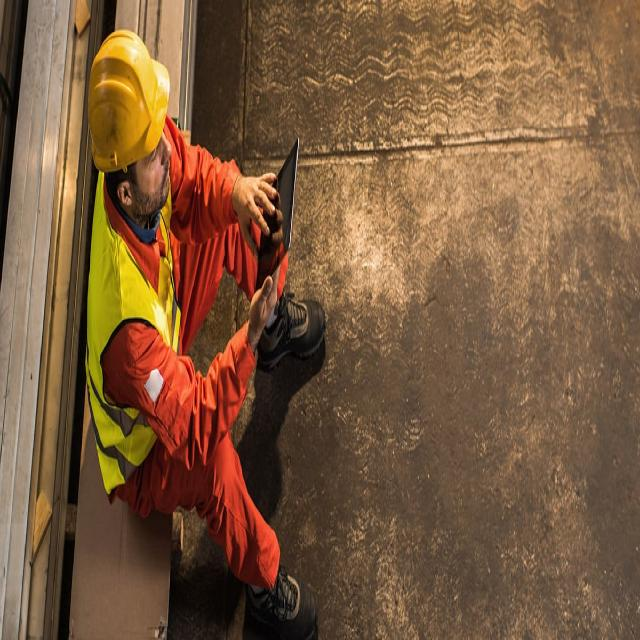helmet: (87, 27, 171, 174)
no-goggles: (119, 130, 168, 197)
vest: (86, 165, 182, 503)
